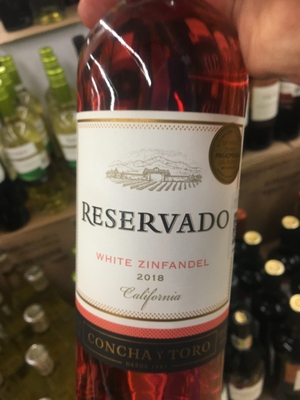reservado white zinfandel: (74, 4, 248, 393)
